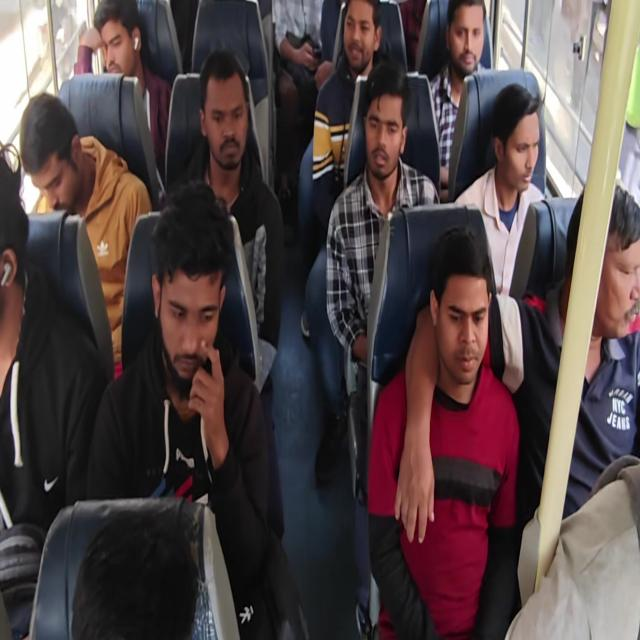person: (152, 214, 224, 396), (76, 535, 197, 640), (578, 190, 640, 347), (422, 257, 489, 399), (16, 102, 97, 215), (497, 76, 552, 210), (77, 0, 154, 84), (363, 84, 412, 205), (0, 143, 27, 345), (201, 78, 257, 174), (448, 0, 490, 91), (346, 0, 380, 72), (408, 0, 438, 49)
